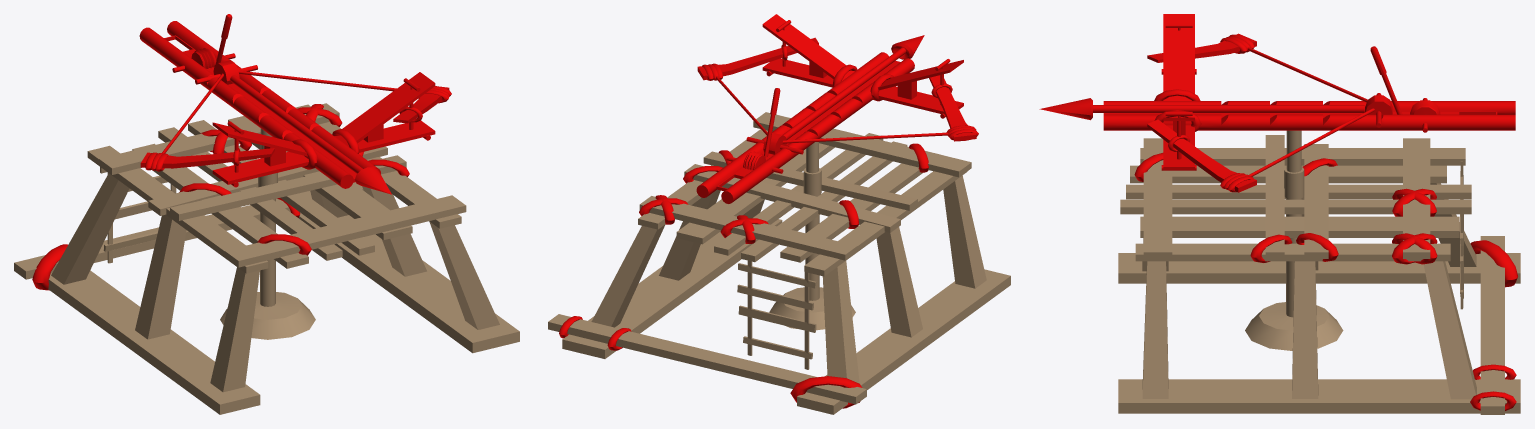
File: Ballista_Attack.fbx
3 renders of one model, left to right at view 1: azimuth 30°, elevation 25°; view 2: azimuth 150°, elevation 25°; view 3: azimuth 270°, elevation 25°, orthographic. The views are drawn at different scales.
Parts seen in each view (by area): view 1: Ballista_Attack; view 2: Ballista_Attack; view 3: Ballista_Attack.
Part boxes in pixels (left/top/right/bottom): Ballista_Attack: left=14, top=14, right=519, bottom=414; Ballista_Attack: left=548, top=14, right=1010, bottom=414; Ballista_Attack: left=1039, top=14, right=1520, bottom=414.
Size of the model in its own units: 76 by 60.19 by 89.84.
